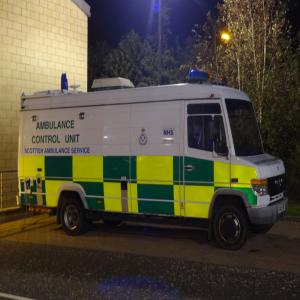Vehicle-registration-plate: (279, 204, 287, 213)
